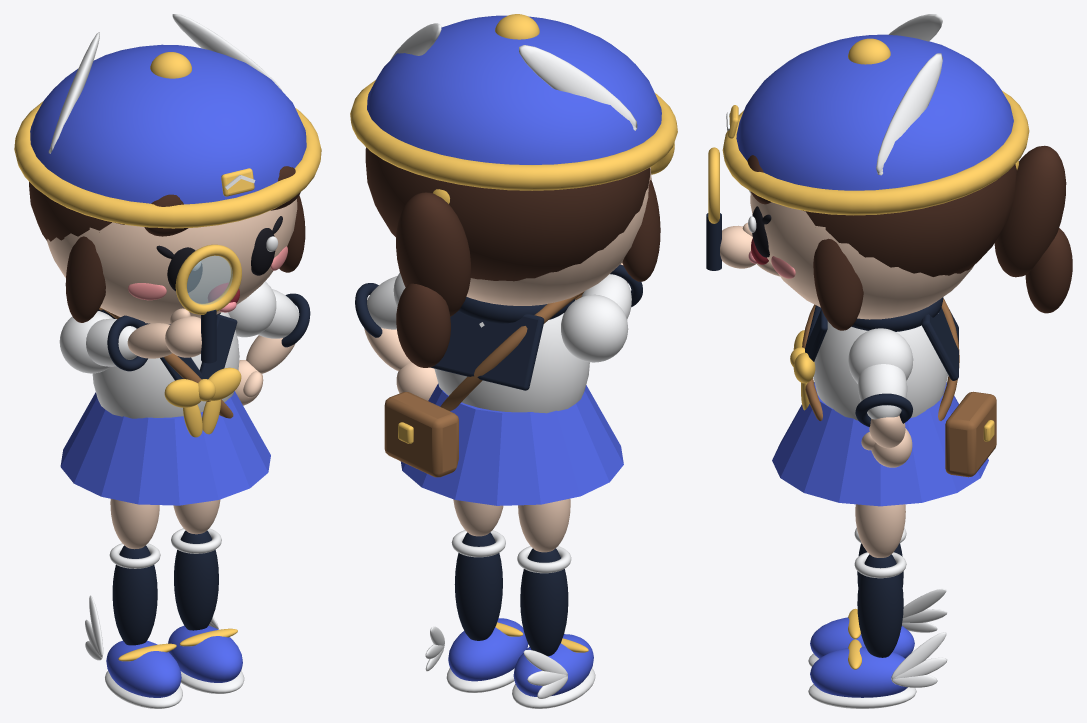
The model's file is magnifier.glb.
The picture shows the model from 3 angles, left to right: view 1: azimuth 30°, elevation 25°; view 2: azimuth 150°, elevation 25°; view 3: azimuth 270°, elevation 25°; orthographic projection. The views are drawn at different scales.
Visible parts, largest first — view 1: M13_cap, M13_skirt, M13_head.001, M13_capBrim, M13_top, M13_shinR, M13_shinL, M13_shoeR, M13_shoeL, M13_lockR, M13_hair, M13_magnifier0_magRim (+34 smaller); view 2: M13_cap, M13_hair, M13_skirt, M13_capBrim, M13_ponytail, M13_top, M13_collarBack, M13_head.001, M13_satchel, M13_shinL, M13_shinR, M13_ponytailTip (+22 smaller); view 3: M13_cap, M13_skirt, M13_hair, M13_capBrim, M13_head.001, M13_ponytail, M13_top, M13_shinL, M13_shoeL, M13_satchel, M13_lockL, M13_ponytailTip (+21 smaller).
Boxes of the visible parts, left/top/right/bottom form: M13_cap: left=30, top=44, right=306, bottom=204; M13_skirt: left=60, top=391, right=270, bottom=505; M13_head.001: left=47, top=199, right=297, bottom=324; M13_capBrim: left=14, top=101, right=321, bottom=228; M13_top: left=92, top=312, right=239, bottom=418; M13_shinR: left=112, top=545, right=157, bottom=645; M13_shinL: left=174, top=530, right=218, bottom=630; M13_shoeR: left=106, top=640, right=181, bottom=697; M13_shoeL: left=168, top=625, right=242, bottom=682; M13_lockR: left=65, top=236, right=105, bottom=322; M13_hair: left=29, top=182, right=124, bottom=241; M13_magnifier0_magRim: left=175, top=244, right=241, bottom=314; M13_cap: left=367, top=15, right=661, bottom=164; M13_hair: left=365, top=147, right=650, bottom=281; M13_skirt: left=400, top=383, right=623, bottom=505; M13_capBrim: left=350, top=80, right=677, bottom=190; M13_ponytail: left=396, top=192, right=470, bottom=316; M13_top: left=434, top=300, right=589, bottom=413; M13_collarBack: left=430, top=311, right=544, bottom=390; M13_head.001: left=466, top=167, right=651, bottom=305; M13_satchel: left=384, top=392, right=458, bottom=477; M13_shinL: left=454, top=532, right=502, bottom=640; M13_shinR: left=520, top=548, right=568, bottom=656; M13_ponytailTip: left=396, top=283, right=450, bottom=367; M13_cap: left=736, top=34, right=1013, bottom=190; M13_skirt: left=772, top=382, right=988, bottom=506; M13_hair: left=803, top=164, right=1016, bottom=276; M13_capBrim: left=722, top=91, right=1029, bottom=215; M13_head.001: left=750, top=192, right=973, bottom=319; M13_ponytail: left=994, top=145, right=1066, bottom=277; M13_top: left=813, top=313, right=947, bottom=420; M13_shinL: left=857, top=554, right=903, bottom=657; M13_shoeL: left=810, top=647, right=907, bottom=697; M13_satchel: left=945, top=391, right=996, bottom=477; M13_lockL: left=813, top=238, right=863, bottom=330; M13_ponytailTip: left=1025, top=228, right=1072, bottom=313.
Bounding box in the file's own units: 0.8952 × 1.99 × 1.01.
